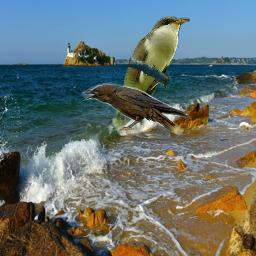Crow: (81, 82, 191, 135)
Cuckoo: (112, 16, 190, 131)
